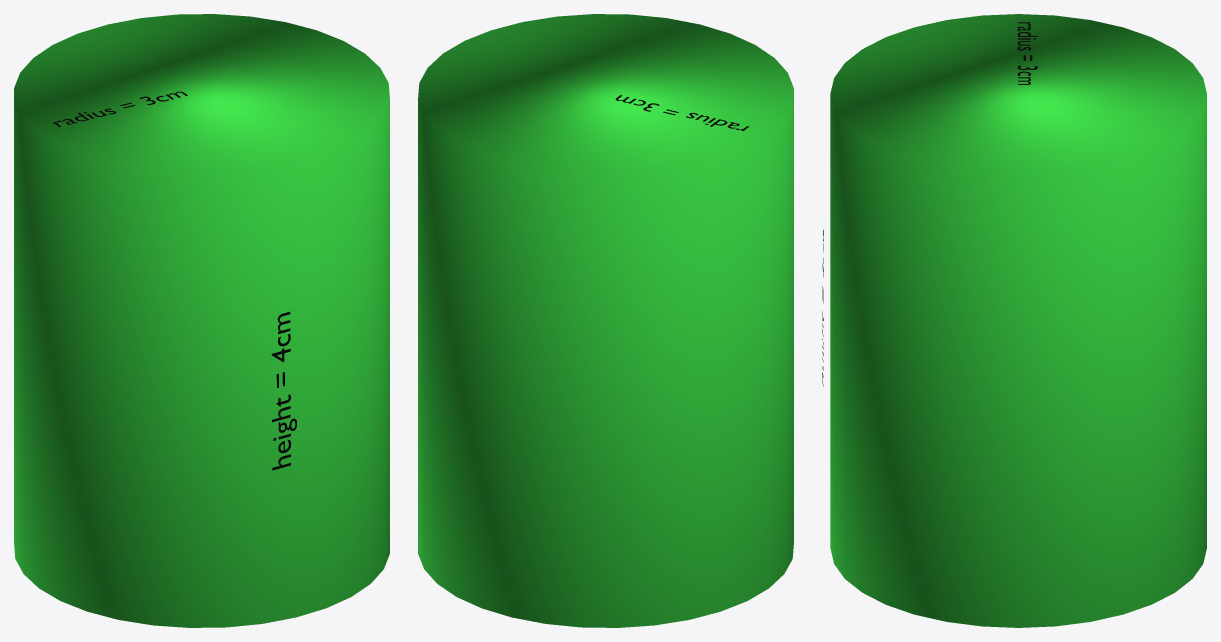
The picture shows the model from 3 angles, left to right: view 1: azimuth 30°, elevation 25°; view 2: azimuth 150°, elevation 25°; view 3: azimuth 270°, elevation 25°; orthographic projection.
Visible parts, largest first — view 1: Cylinder, height; view 2: Cylinder; view 3: Cylinder.
Part boxes in pixels (x1=…): Cylinder: x1=14, y1=14, x2=389, y2=627; height: x1=271, y1=311, x2=296, y2=470; Cylinder: x1=418, y1=14, x2=793, y2=627; Cylinder: x1=830, y1=14, x2=1206, y2=627.
Size of the model in its own units: 0.3 by 0.4013 by 0.3067.
